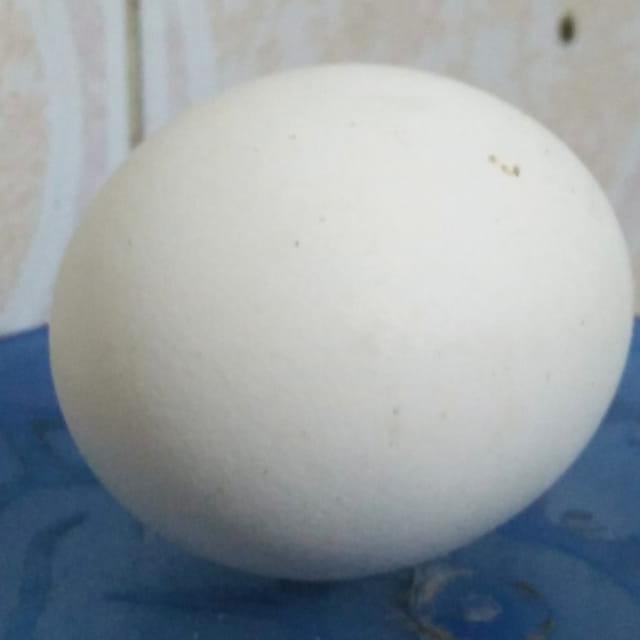egg: (44, 57, 638, 586)
